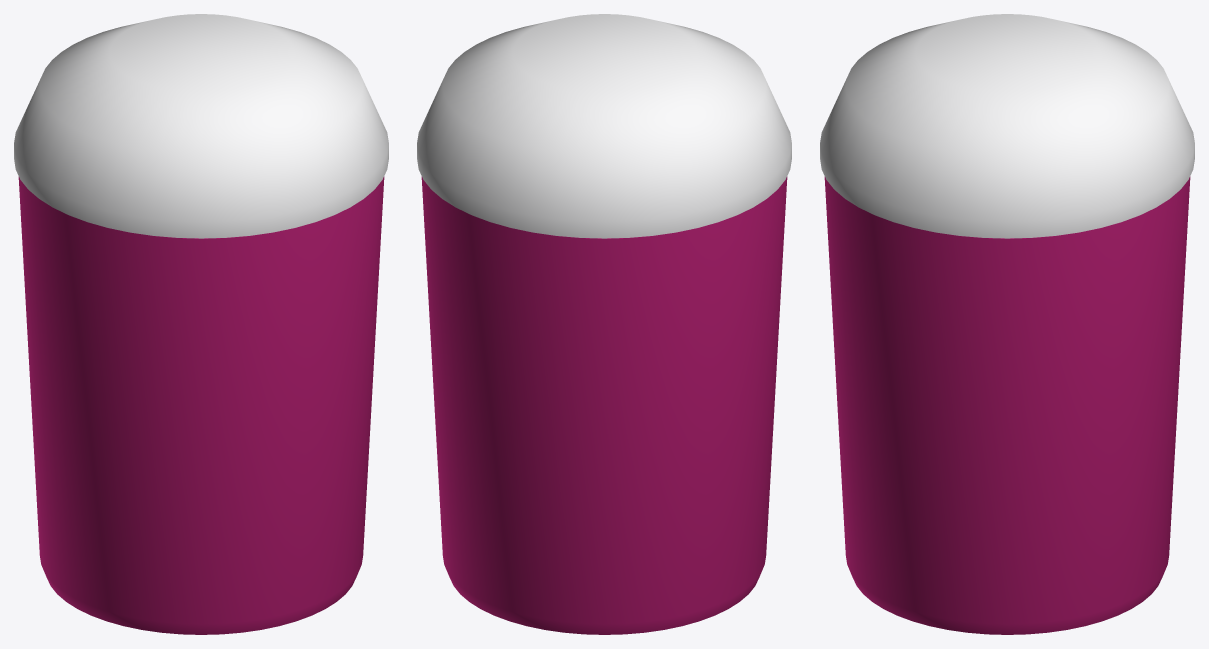
The model's file is rec45VR2GeGQIxmvH.glb.
3 renders of one model, left to right at view 1: azimuth 30°, elevation 25°; view 2: azimuth 150°, elevation 25°; view 3: azimuth 270°, elevation 25°, orthographic.
Visible parts, largest first — view 1: Poubelle_Rose_Corps; view 2: Poubelle_Rose_Corps; view 3: Poubelle_Rose_Corps.
Boxes of the visible parts, x1=… form: Poubelle_Rose_Corps: x1=14, y1=14, x2=388, y2=634; Poubelle_Rose_Corps: x1=417, y1=14, x2=791, y2=634; Poubelle_Rose_Corps: x1=820, y1=14, x2=1194, y2=634.
Bounding box in the file's own units: 0.204 × 0.312 × 0.204.
